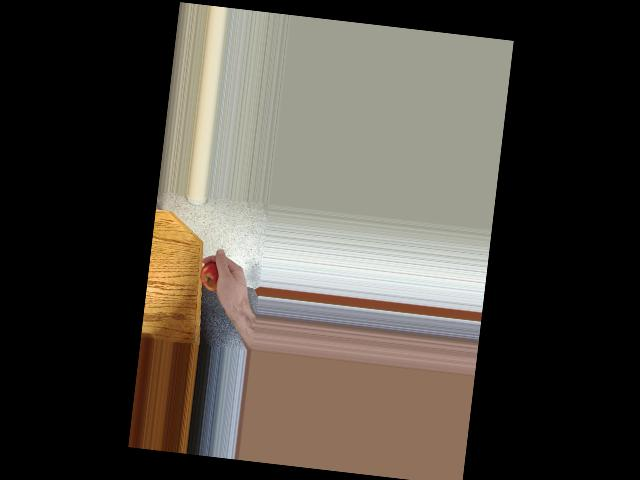apple: (197, 257, 232, 299)
